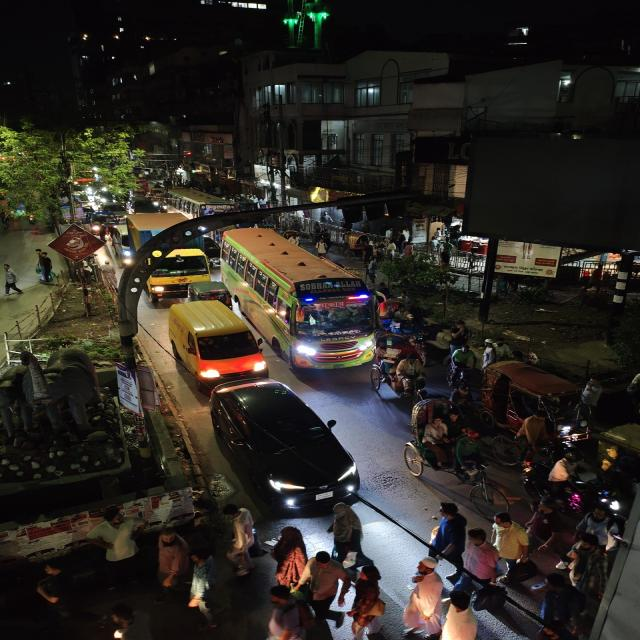bus: (216, 227, 379, 375), (165, 189, 236, 219)
car: (206, 377, 364, 510), (166, 300, 267, 382), (95, 203, 129, 221)
motorcycle: (543, 456, 589, 516), (95, 600, 148, 640)
pedestrian: (456, 528, 509, 608), (303, 546, 347, 636), (530, 573, 586, 639), (400, 566, 447, 640), (82, 521, 149, 569), (151, 528, 190, 600), (221, 502, 258, 576), (260, 583, 308, 640), (32, 567, 85, 617), (326, 500, 366, 564), (94, 600, 151, 640), (490, 511, 531, 565), (426, 499, 466, 551), (273, 528, 306, 590), (446, 345, 477, 387), (33, 252, 56, 284), (0, 263, 21, 298), (434, 325, 456, 352), (1, 210, 10, 232)
rickshaw: (402, 398, 510, 506), (368, 344, 428, 401)
truck: (133, 213, 220, 302)
